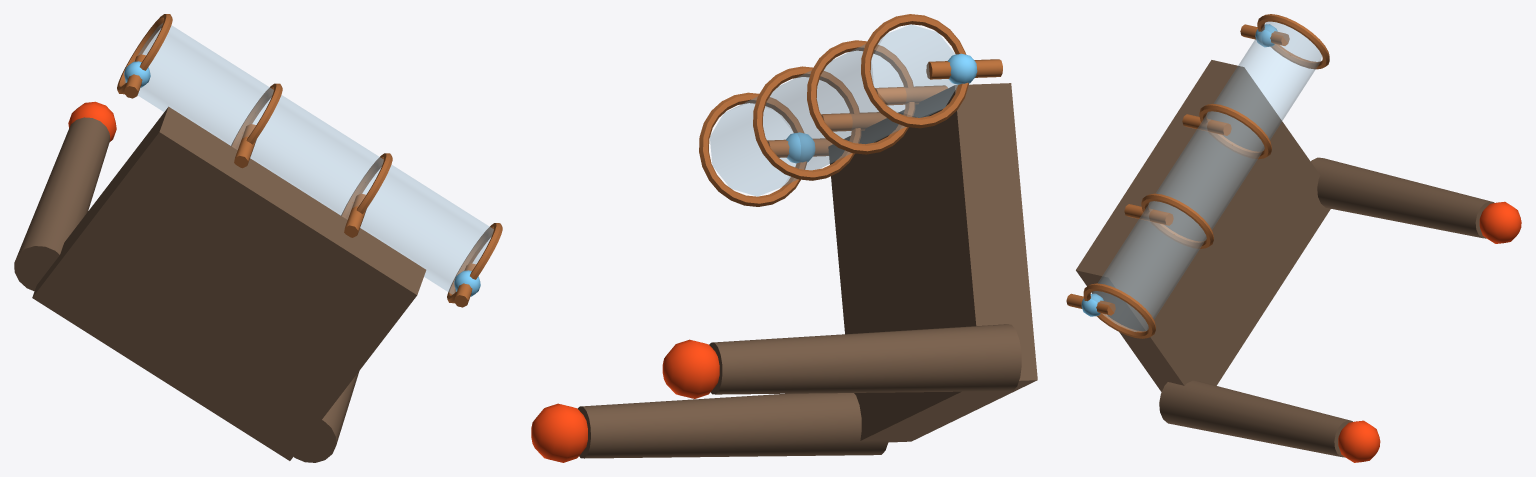
File: brueckenkopf.obj
3 views of the same model, side by side, from view 1: azimuth 30°, elevation 25°; view 2: azimuth 150°, elevation 25°; view 3: azimuth 270°, elevation 25° (orthographic). The views are drawn at different scales.
Visible parts, largest first — view 1: Brueckenkopf; view 2: Brueckenkopf; view 3: Brueckenkopf.
Part boxes in pixels (x1,y1,x2,y2): Brueckenkopf: (14, 14, 502, 462); Brueckenkopf: (531, 14, 1037, 462); Brueckenkopf: (1066, 14, 1521, 462).
Bounding box in the file's own units: 7.17 × 7.52 × 8.38.
